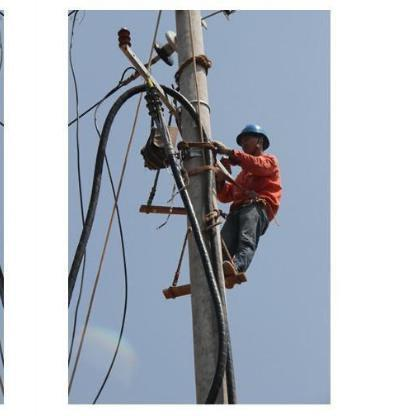helmet: (231, 119, 270, 149)
